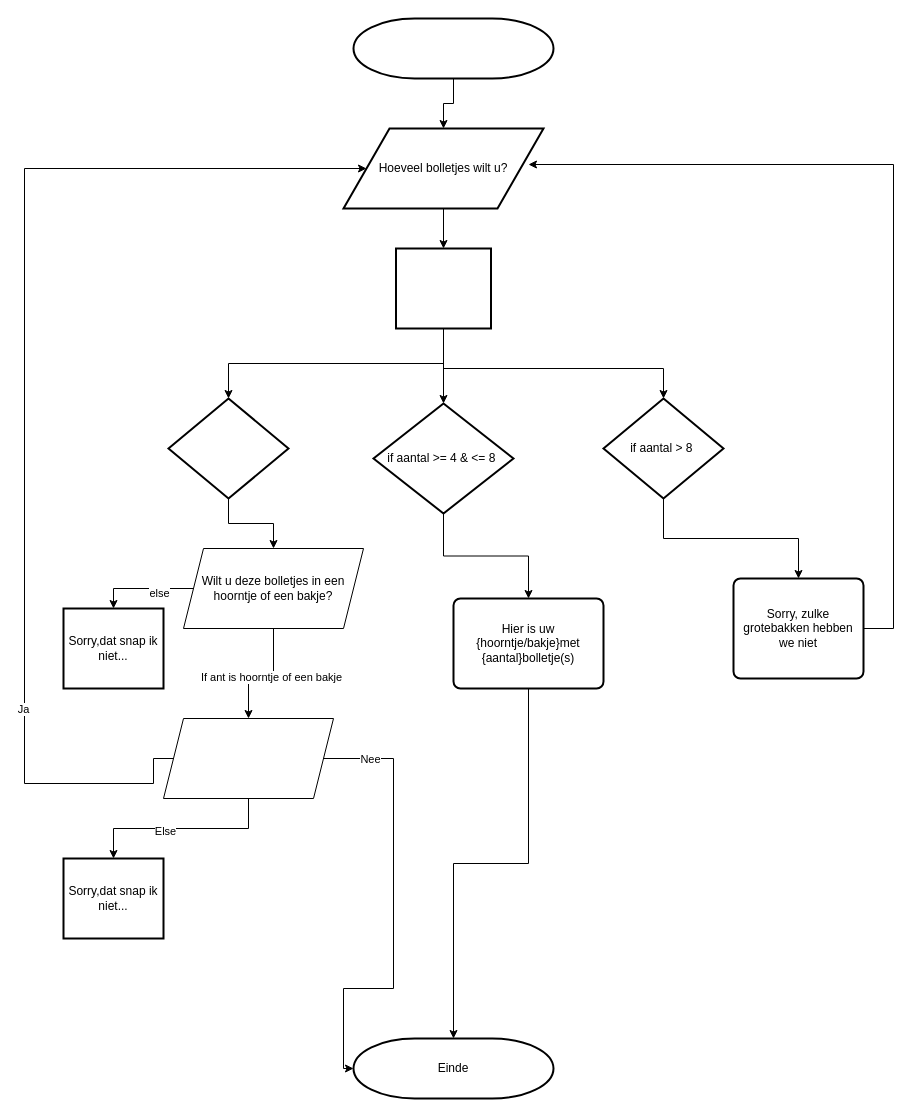
Image size: 919x1116. Some labels were removed from this diagram. Here are the shapes that lost their labels. From the top down, the centre of each, then its label:
At pixel 453 48: "Welkom bij Papi Gelato".
At pixel 443 288: "Het aantal wordt gegeven".
At pixel 228 448: "if aantal <= 3 & > 0".
At pixel 248 758: "Wilt u nog meer bestellen?".
